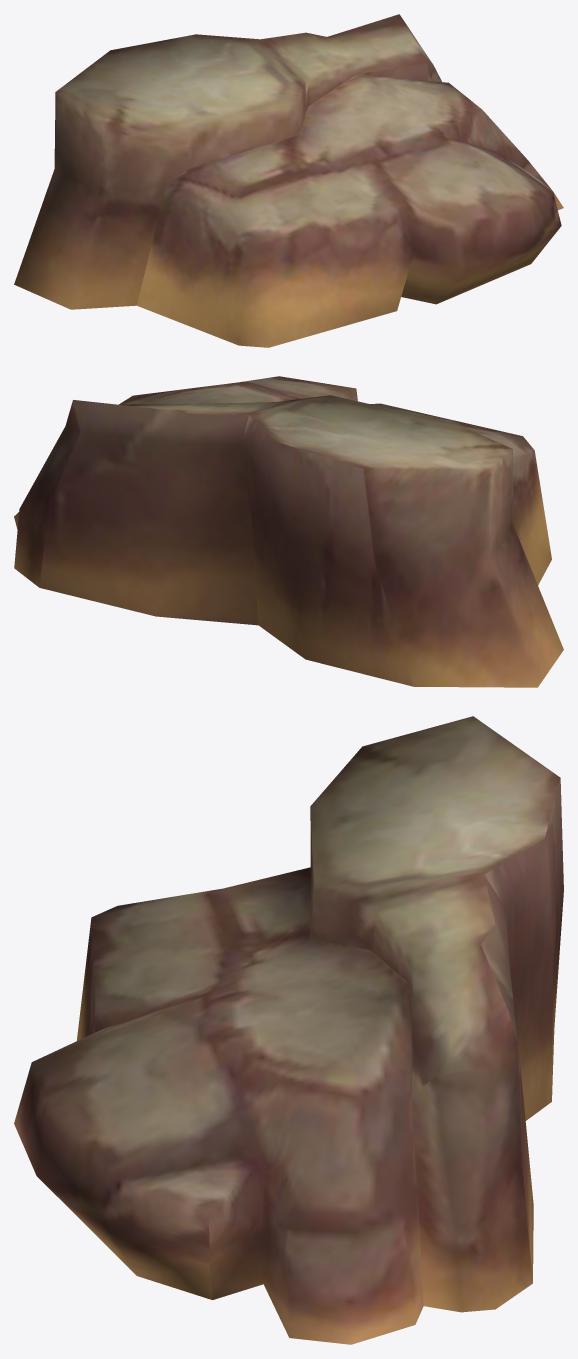
File: h5_shamoshan_c.FBX
3 renders of one model, top to bottom at view 1: azimuth 30°, elevation 25°; view 2: azimuth 150°, elevation 25°; view 3: azimuth 270°, elevation 25°, orthographic. The views are drawn at different scales.
Parts seen in each view (by area): view 1: h5_shamoshan_c; view 2: h5_shamoshan_c; view 3: h5_shamoshan_c.
Part boxes in pixels (left/top/right/bottom): h5_shamoshan_c: left=14, top=14, right=563, bottom=347; h5_shamoshan_c: left=14, top=376, right=563, bottom=687; h5_shamoshan_c: left=14, top=716, right=563, bottom=1344.
Bounding box in the file's own units: 12.55 × 4.39 × 7.72.
